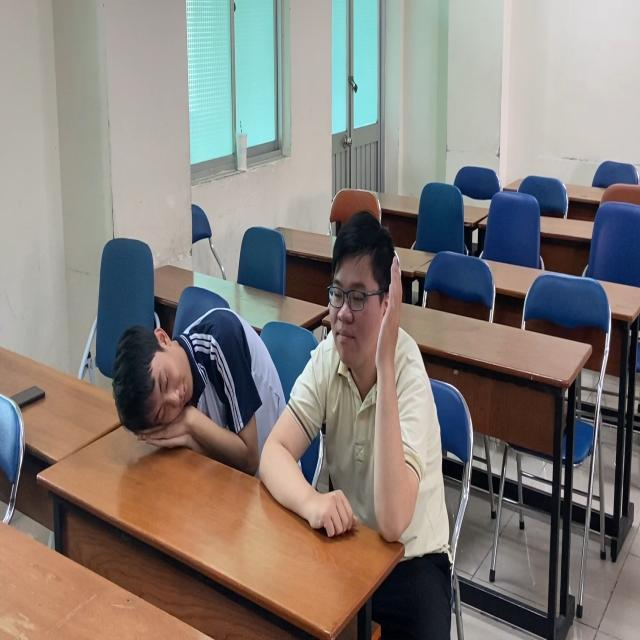raise_hand: (311, 204, 430, 554)
sleep: (109, 299, 285, 476)
